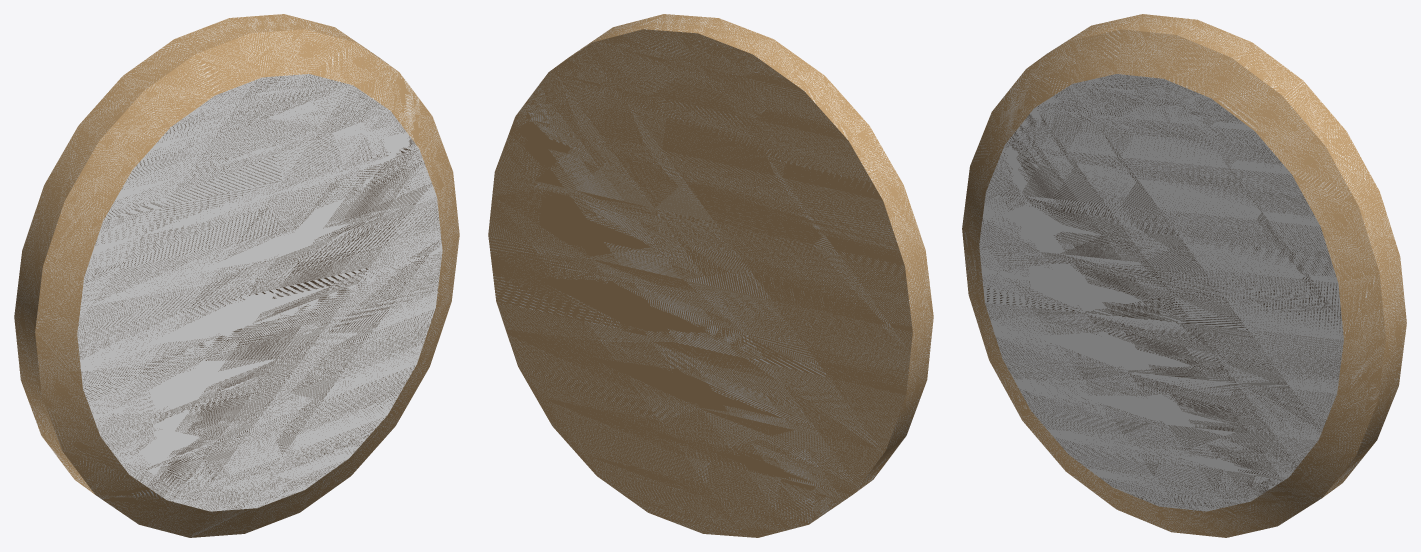
Rendered from original-6.obj.
The picture shows the model from 3 angles, left to right: view 1: azimuth 30°, elevation 25°; view 2: azimuth 150°, elevation 25°; view 3: azimuth 330°, elevation 25°; orthographic projection.
Visible parts, largest first — view 1: Group4/mesh4/mesh4-geometry#mesh4-geometry; view 2: Group4/mesh4/mesh4-geometry#mesh4-geometry; view 3: Group4/mesh4/mesh4-geometry#mesh4-geometry.
Part boxes in pixels (<box>): Group4/mesh4/mesh4-geometry#mesh4-geometry: <box>14,14,459,537</box>; Group4/mesh4/mesh4-geometry#mesh4-geometry: <box>488,14,933,537</box>; Group4/mesh4/mesh4-geometry#mesh4-geometry: <box>962,14,1406,537</box>.
Size of the model in its own units: 0.1563 by 0.1757 by 0.0213.
